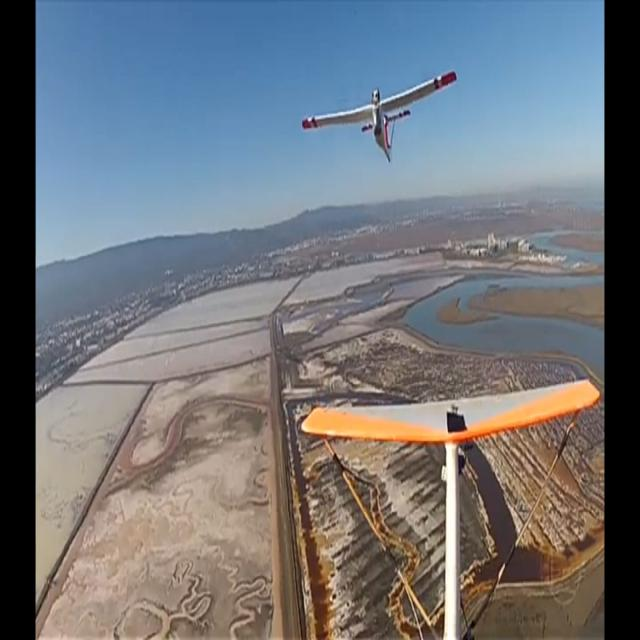iha: (302, 38, 458, 70)
